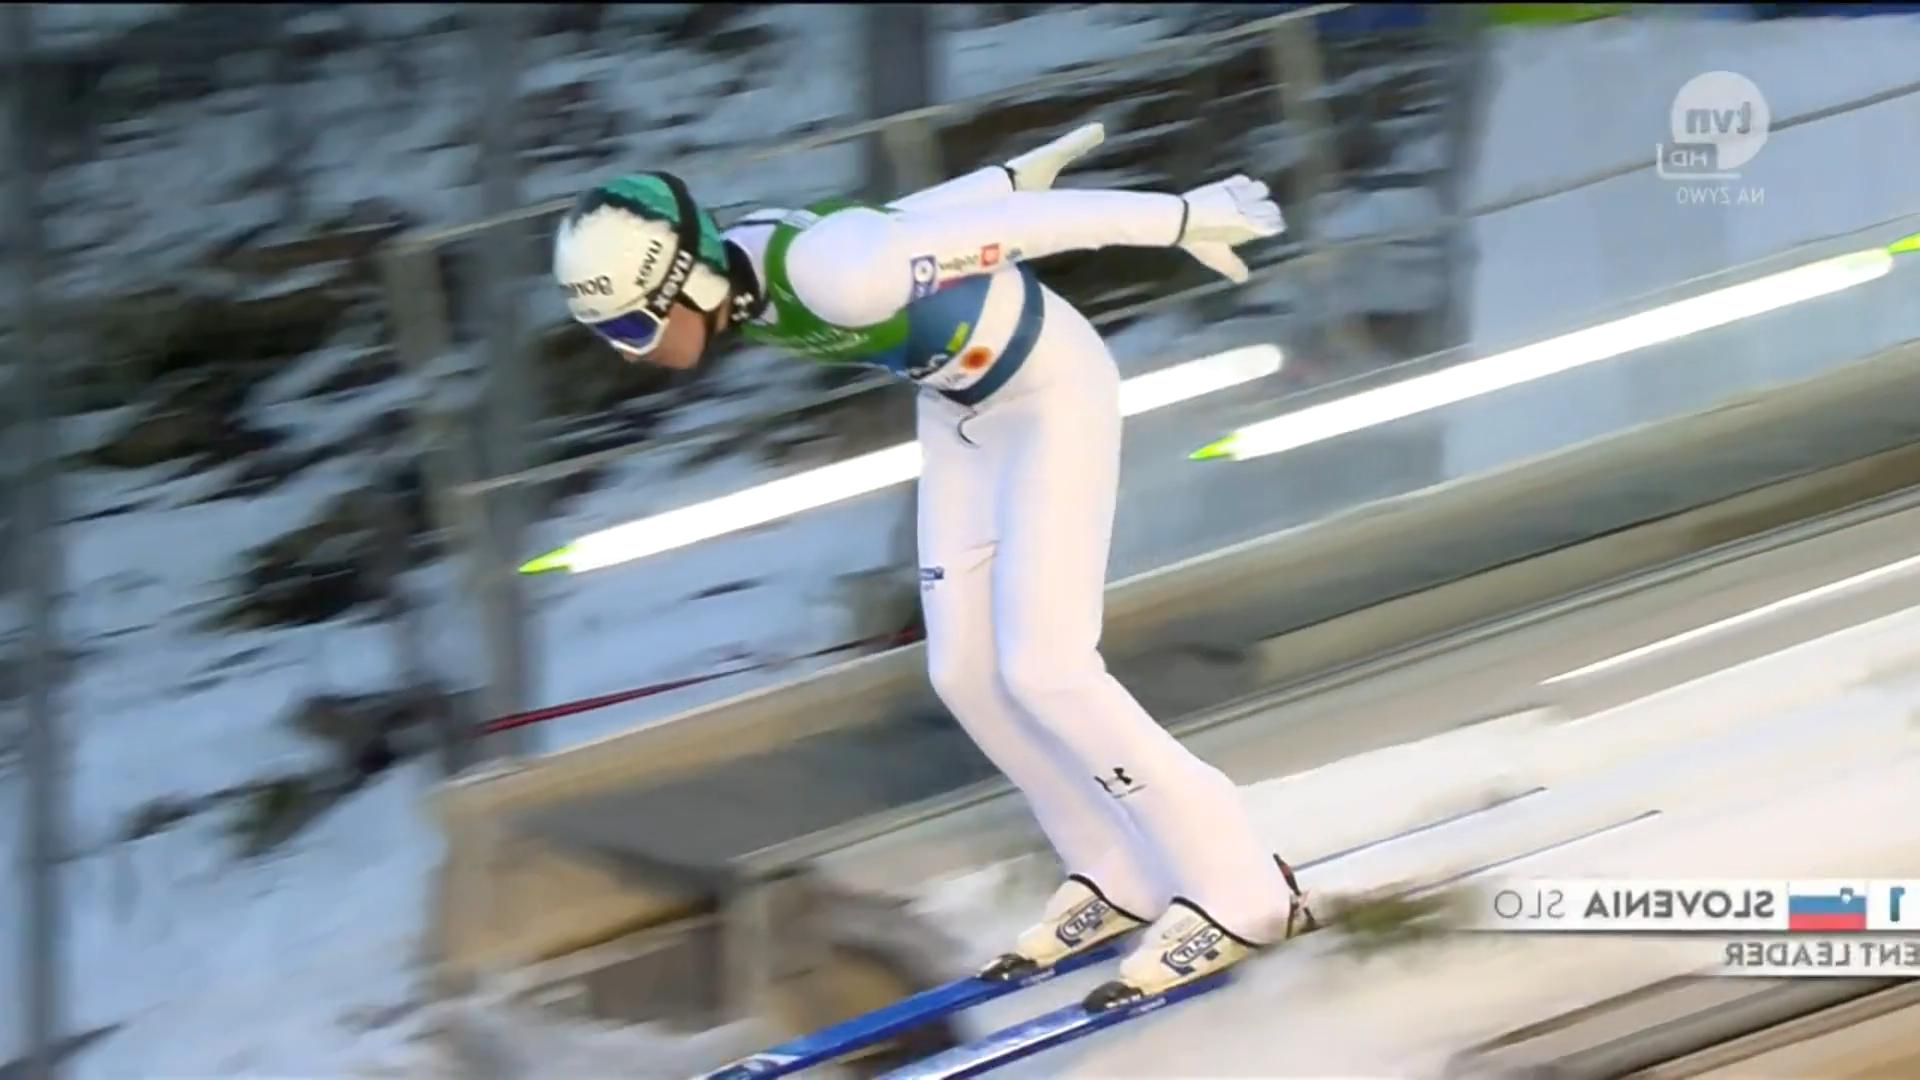prog: (529, 816, 895, 930)
